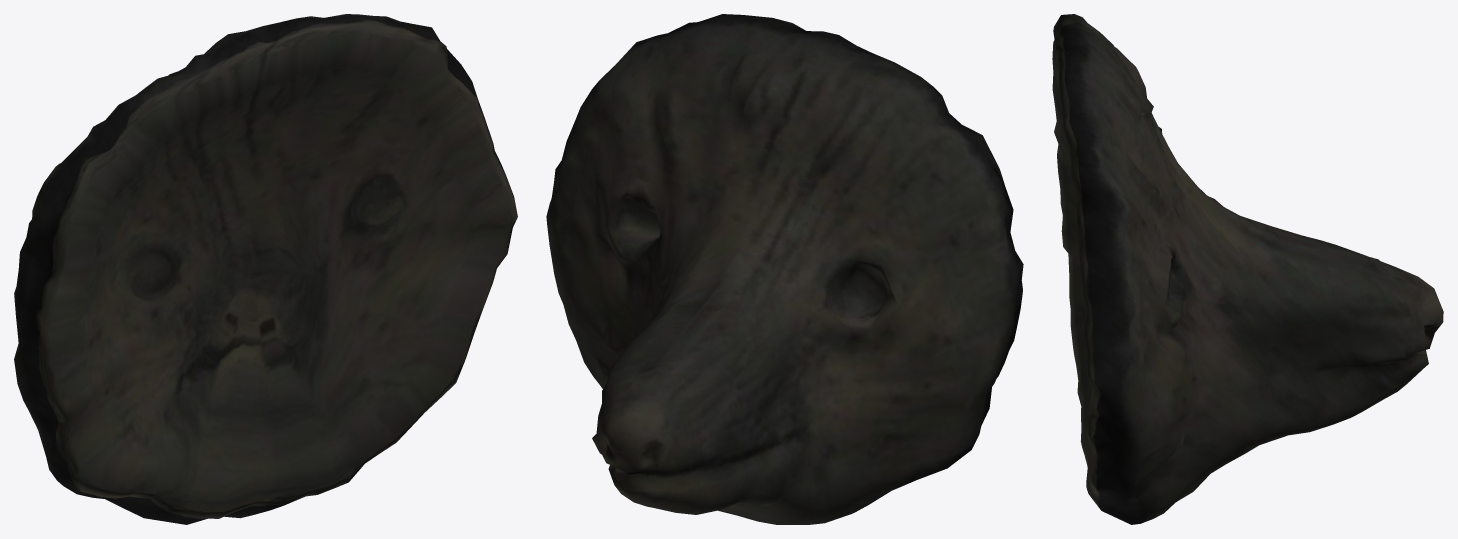
The model's file is animal_mask.glb.
3 views of the same model, side by side, from view 1: azimuth 30°, elevation 25°; view 2: azimuth 150°, elevation 25°; view 3: azimuth 270°, elevation 25° (orthographic). The views are drawn at different scales.
Parts seen in each view (by area): view 1: animalmask_mesh_tex.export; view 2: animalmask_mesh_tex.export; view 3: animalmask_mesh_tex.export.
Boxes of the visible parts, x1,y1,x2,y2 form: animalmask_mesh_tex.export: (14, 14, 517, 524); animalmask_mesh_tex.export: (546, 14, 1023, 524); animalmask_mesh_tex.export: (1052, 14, 1443, 524).
Bounding box in the file's own units: 0.8156 × 0.8004 × 0.6232.
Materials: 1 (1 with a texture image).
